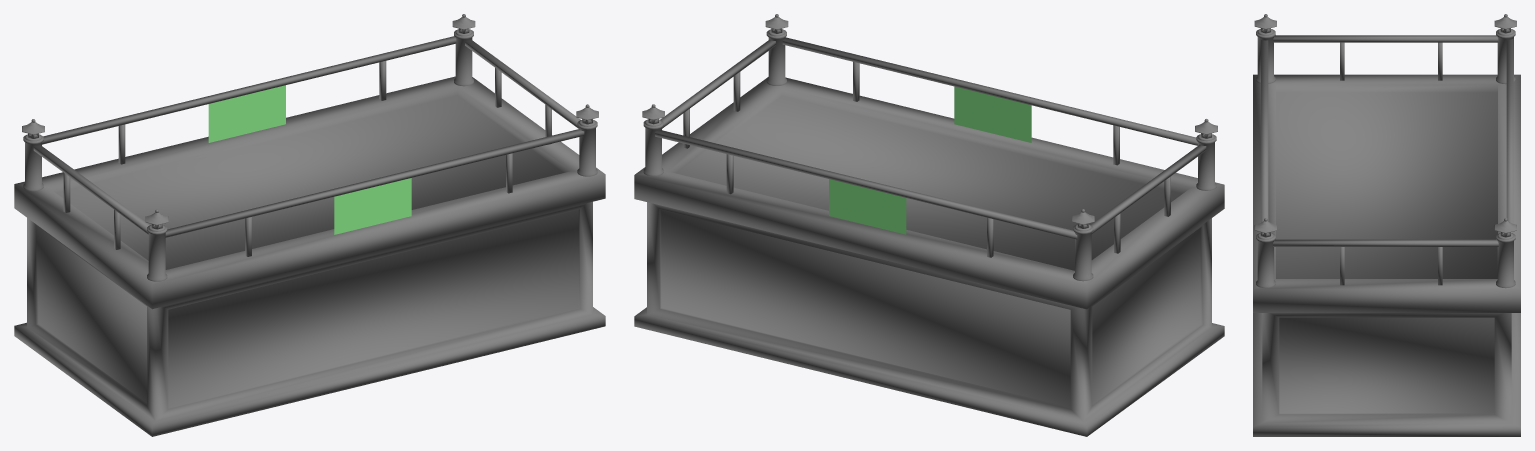
File: 거북선_밑.fbx
3 renders of one model, left to right at view 1: azimuth 30°, elevation 25°; view 2: azimuth 150°, elevation 25°; view 3: azimuth 270°, elevation 25°, orthographic. The views are drawn at different scales.
Parts seen in each view (by area): view 1: 1_low001; view 2: 1_low001; view 3: 1_low001.
Boxes of the visible parts, x1,y1,x2,y2 form: 1_low001: [14, 14, 605, 436]; 1_low001: [634, 14, 1224, 436]; 1_low001: [1253, 14, 1520, 436].
Bounding box in the file's own units: 24470 × 11334 × 12888.
